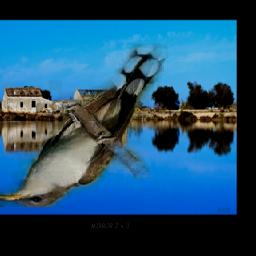Cuckoo: (0, 44, 169, 208)
